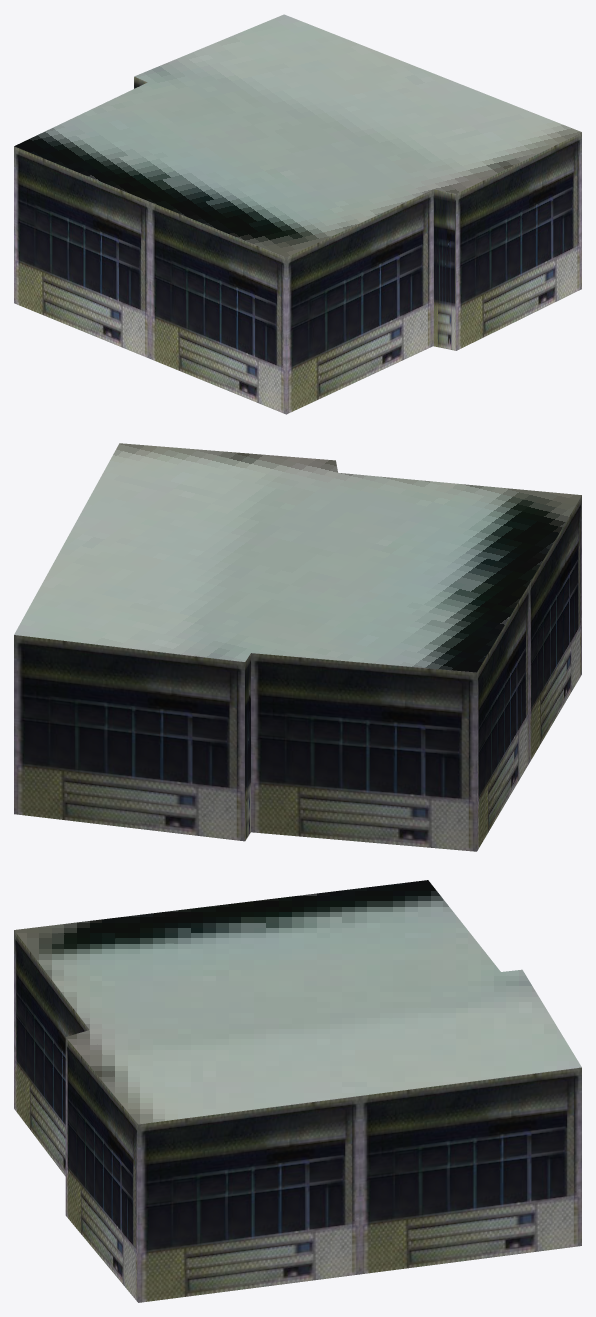
The picture shows the model from 3 angles, top to bottom: view 1: azimuth 30°, elevation 25°; view 2: azimuth 150°, elevation 25°; view 3: azimuth 270°, elevation 25°; orthographic projection. The views are drawn at different scales.
Parts seen in each view (by area): view 1: SketchUp (×5); view 2: SketchUp (×5); view 3: SketchUp (×4).
Part boxes in pixels (x1,y1,x2,y2): SketchUp (×5): (14,14,581,414); SketchUp (×5): (14,443,581,851); SketchUp (×4): (14,880,581,1302).
Bounding box in the file's own units: 11.63 × 11.42 × 3.96.
2 materials, 2 textured.
